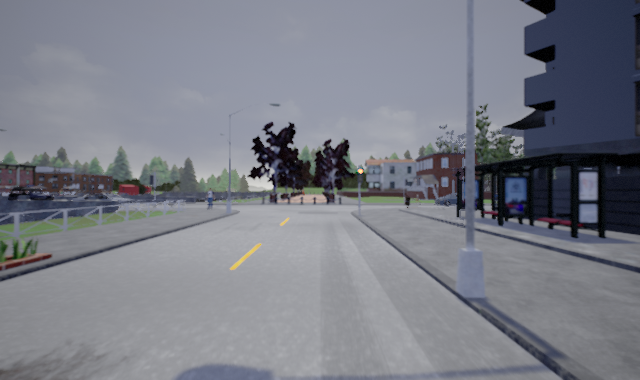pedestrian: (204, 186, 215, 209)
vehicle: (2, 187, 60, 208)
